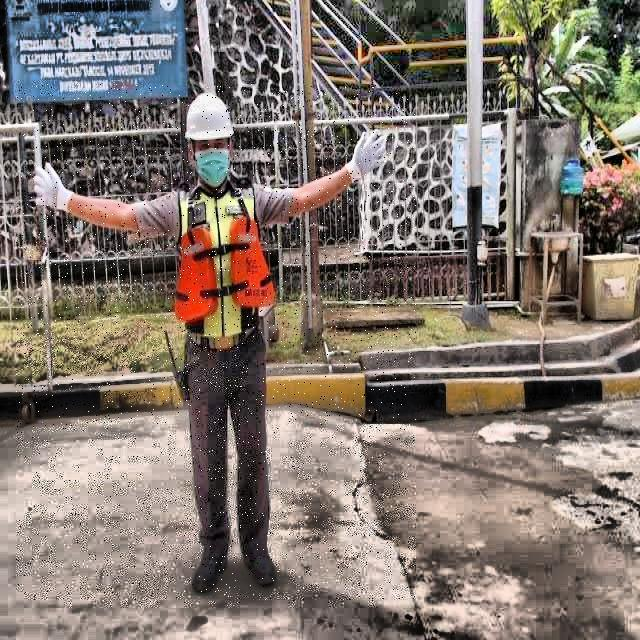safety_helmet: (182, 91, 236, 142)
safety_jacket: (176, 179, 275, 340)
